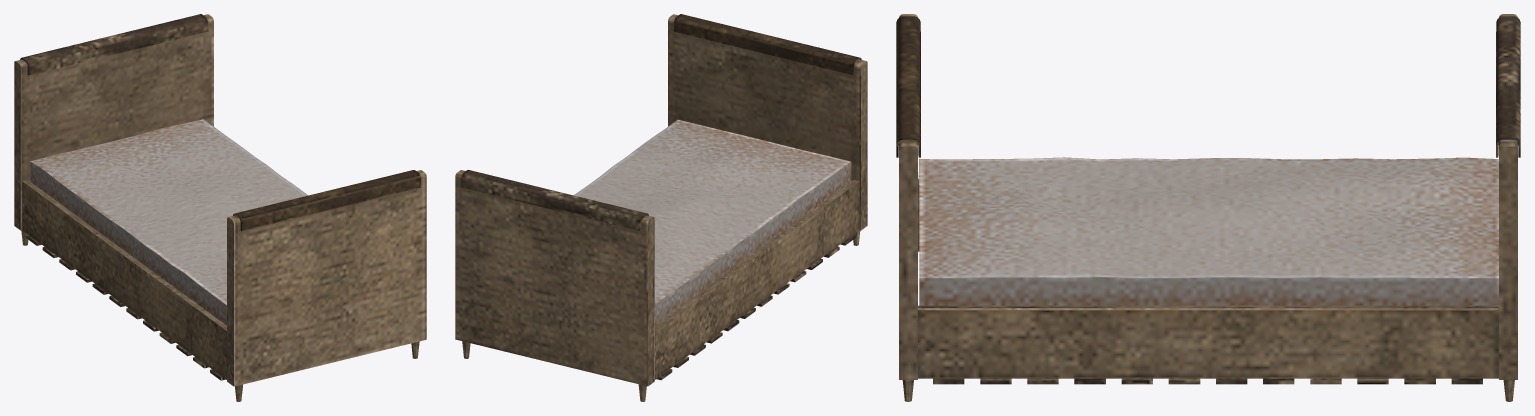
File: bed.fbx
The picture shows the model from 3 angles, left to right: view 1: azimuth 30°, elevation 25°; view 2: azimuth 150°, elevation 25°; view 3: azimuth 270°, elevation 25°; orthographic projection. The views are drawn at different scales.
Visible parts, largest first — view 1: krovat_low, matrac_high; view 2: krovat_low, matrac_high; view 3: matrac_high, krovat_low.
Boxes of the visible parts, x1,y1,x2,y2 form: krovat_low: (14, 14, 426, 401); matrac_high: (30, 119, 307, 325); krovat_low: (455, 14, 867, 401); matrac_high: (573, 119, 851, 325); matrac_high: (918, 157, 1498, 305); krovat_low: (896, 14, 1520, 401).
Bounding box in the file's own units: 118 × 107 × 232.
